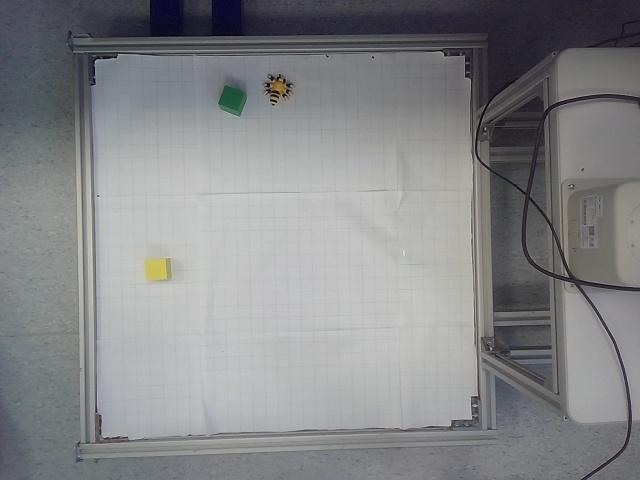frelon: (262, 74, 295, 106)
